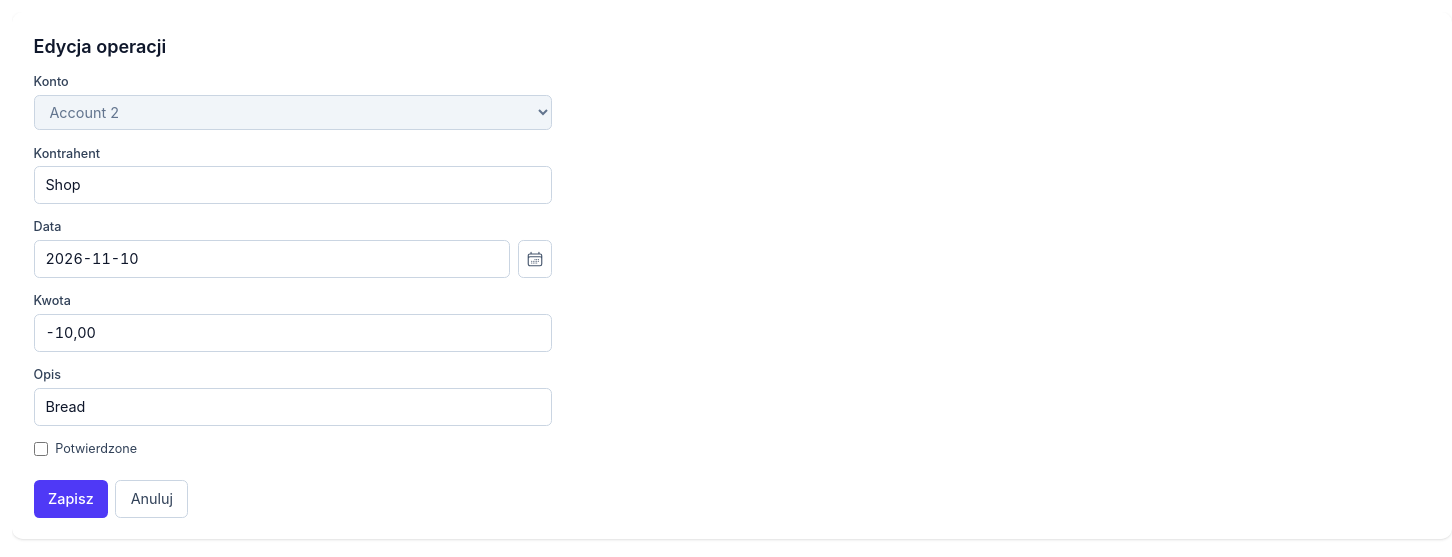
Test: EditOperationPage › goes back without saving, opened first in the tab, to the history of its account
Click the button "Anuluj" at (152, 499), box x1=115 y1=480 x2=188 y2=518
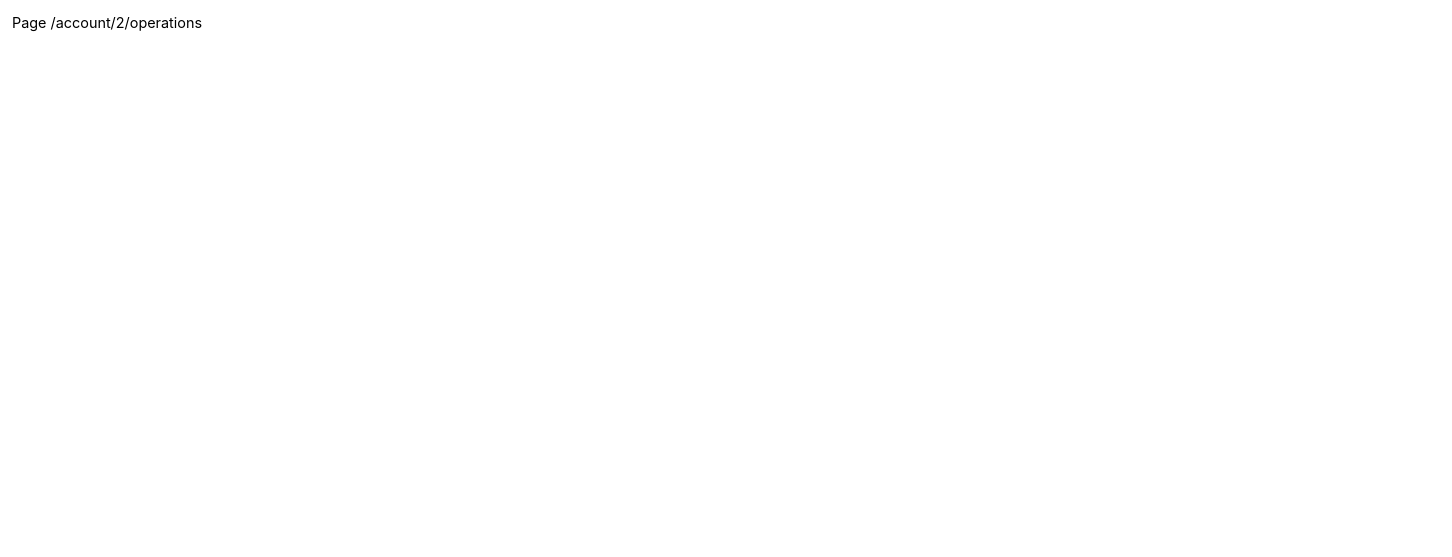
Result: the text "Page /account/2/operations" is shown at x1=12 y1=14 x2=202 y2=31
